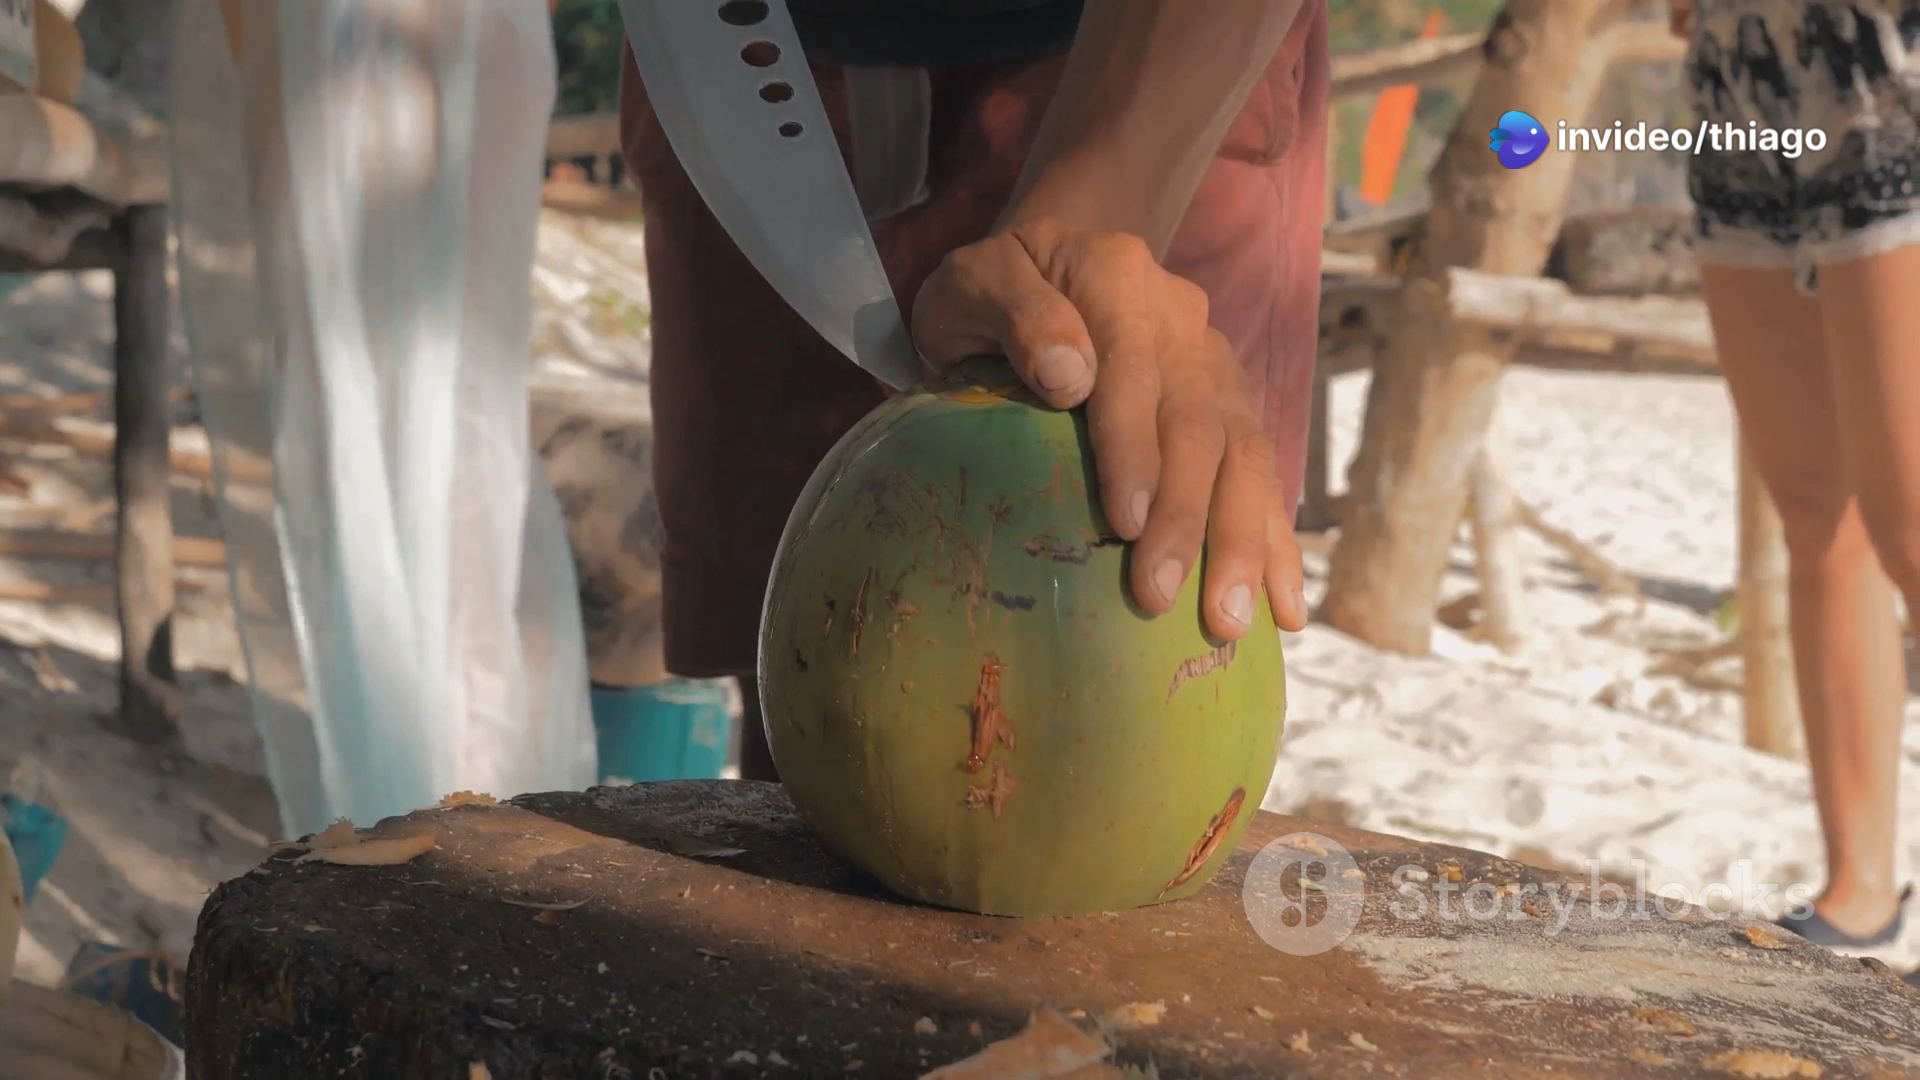cortante: (617, 0, 930, 405)
